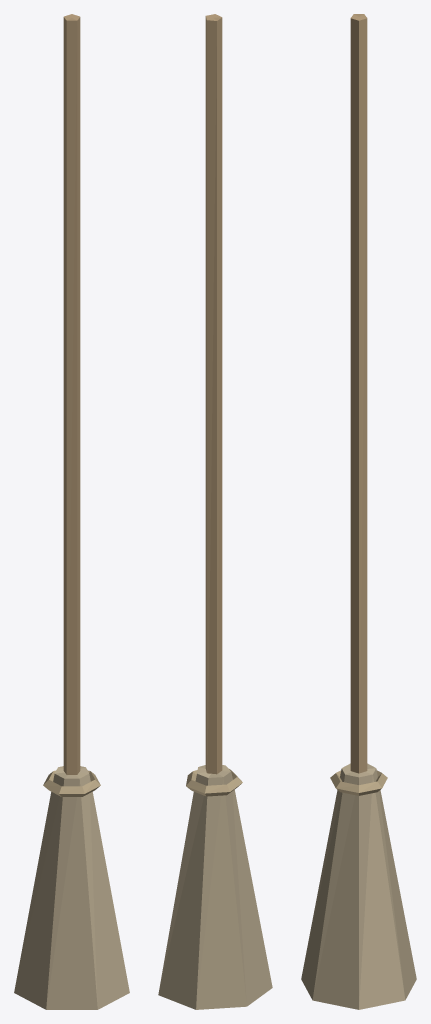
Rendered from broom.glb.
3 renders of one model, left to right at view 1: azimuth 90°, elevation 25°; view 2: azimuth 150°, elevation 25°; view 3: azimuth 270°, elevation 25°, orthographic.
Visible parts, largest first — view 1: broom; view 2: broom; view 3: broom.
Part boxes in pixels (<box>): broom: <box>14,14,129,1009</box>; broom: <box>158,14,272,1009</box>; broom: <box>301,14,416,1009</box>.
Size of the model in its own units: 0.1901 by 1.8 by 0.195.
